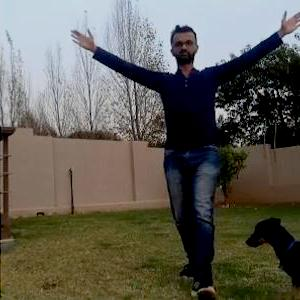takeoff: (62, 0, 299, 276)
